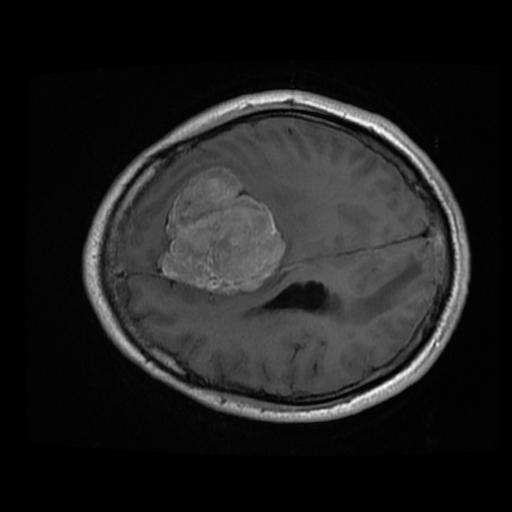meningioma: (153, 167, 285, 293)
